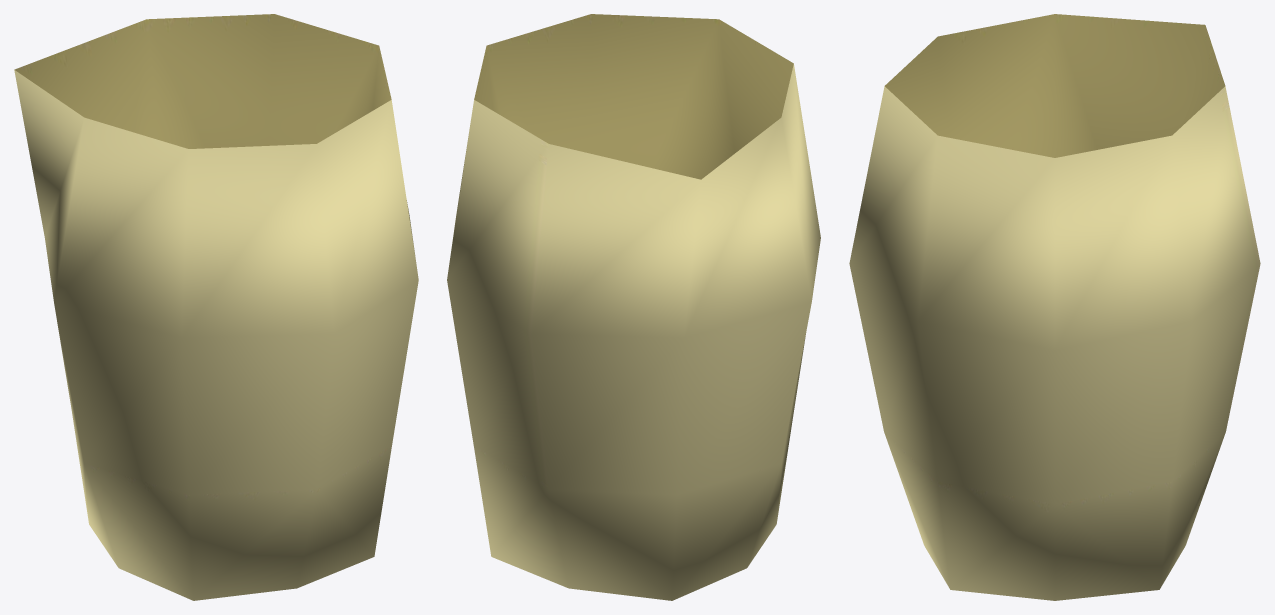
Rendered from Tiegel_1.fbx.
3 renders of one model, left to right at view 1: azimuth 30°, elevation 25°; view 2: azimuth 150°, elevation 25°; view 3: azimuth 270°, elevation 25°, orthographic.
Parts seen in each view (by area): view 1: Tiegel_1; view 2: Tiegel_1; view 3: Tiegel_1.
Boxes of the visible parts, x1,y1,x2,y2 form: Tiegel_1: (14,14,418,600); Tiegel_1: (447,14,820,600); Tiegel_1: (849,14,1260,600).
Bounding box in the file's own units: 46.79 × 57.72 × 46.79.
Materials: 1 (1 with a texture image).
